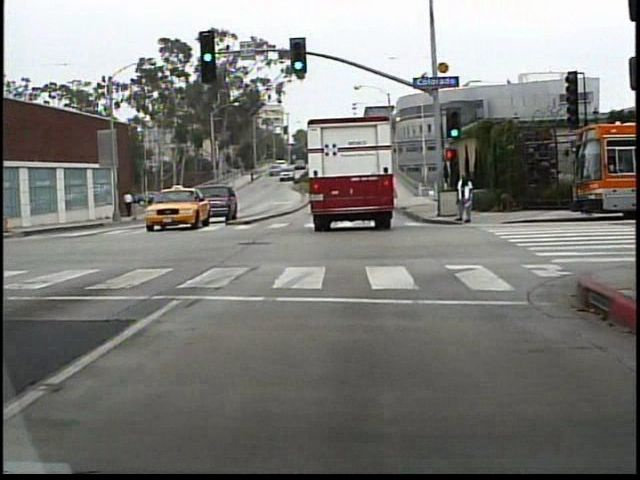person: (450, 173, 475, 227), (122, 187, 138, 220)
